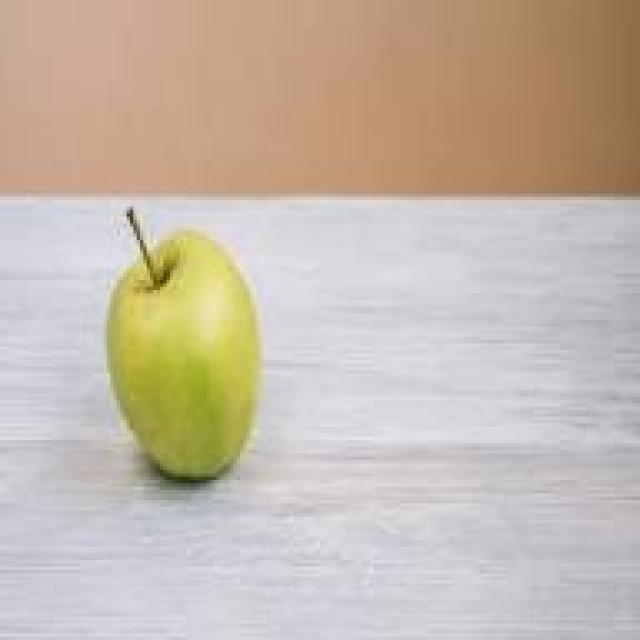apple: (107, 237, 263, 473)
